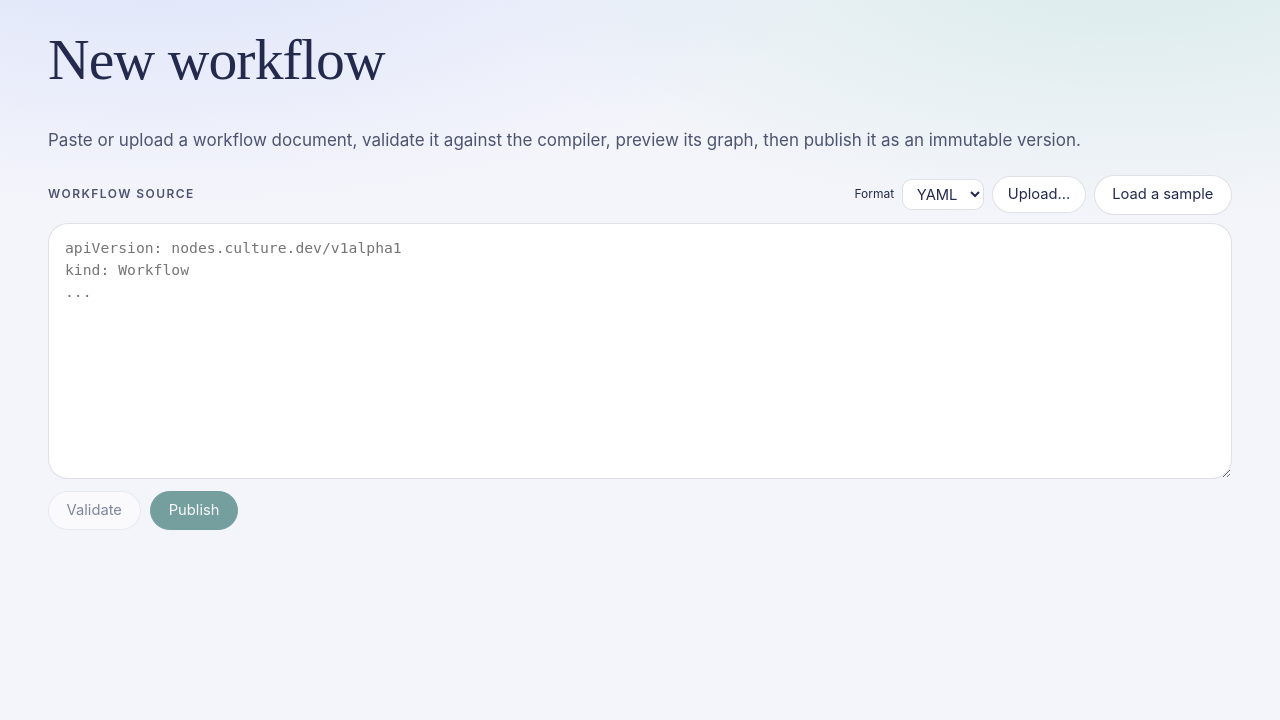
Test: AuthorWorkflow: paste and validate › renders invalid diagnostics verbatim, and never enables Publish for them
Type "apiVersion: nodes.culture.dev/v1alpha1 kind: Workflow metadata:   name: broken spec:   entry: greet   nodes:     greet:       kind: agent   edges:     - from: greet.completed       to: does-not-exist " into the text box labelled "Workflow source" at point(640, 351), box [48,223,1232,479]
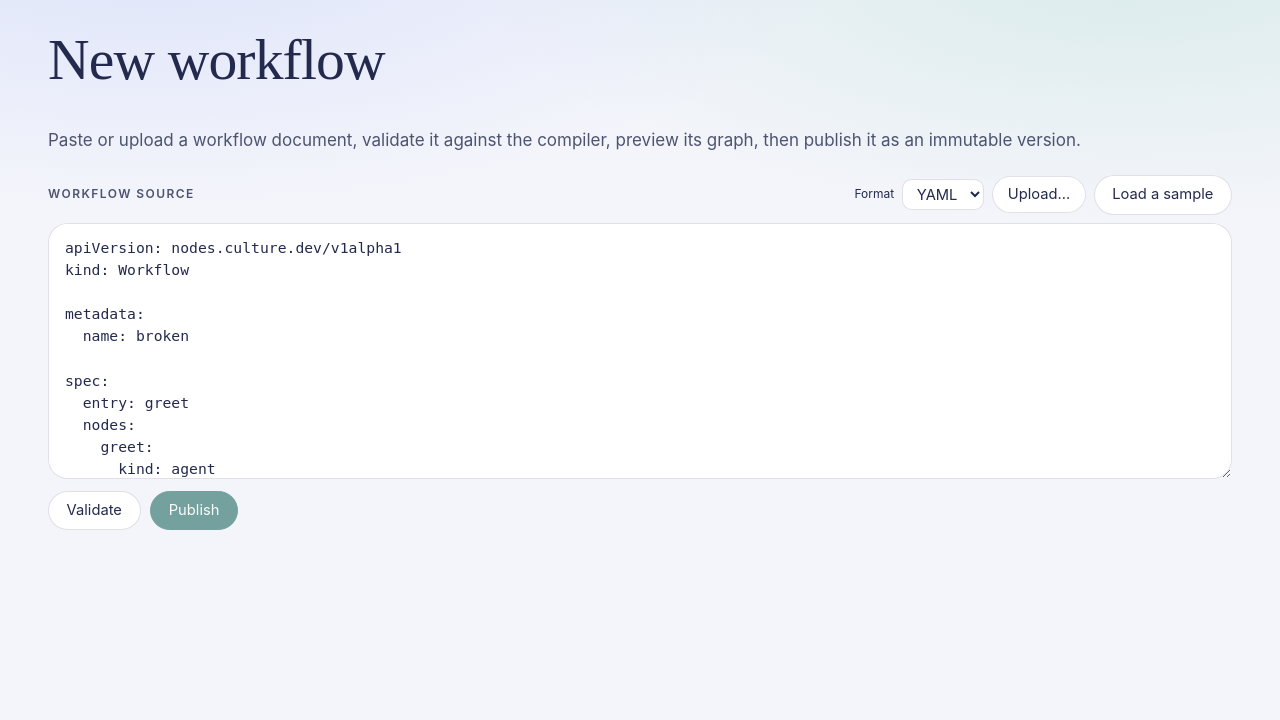
Click the button "Validate" at point(94, 510), box [48,491,140,530]
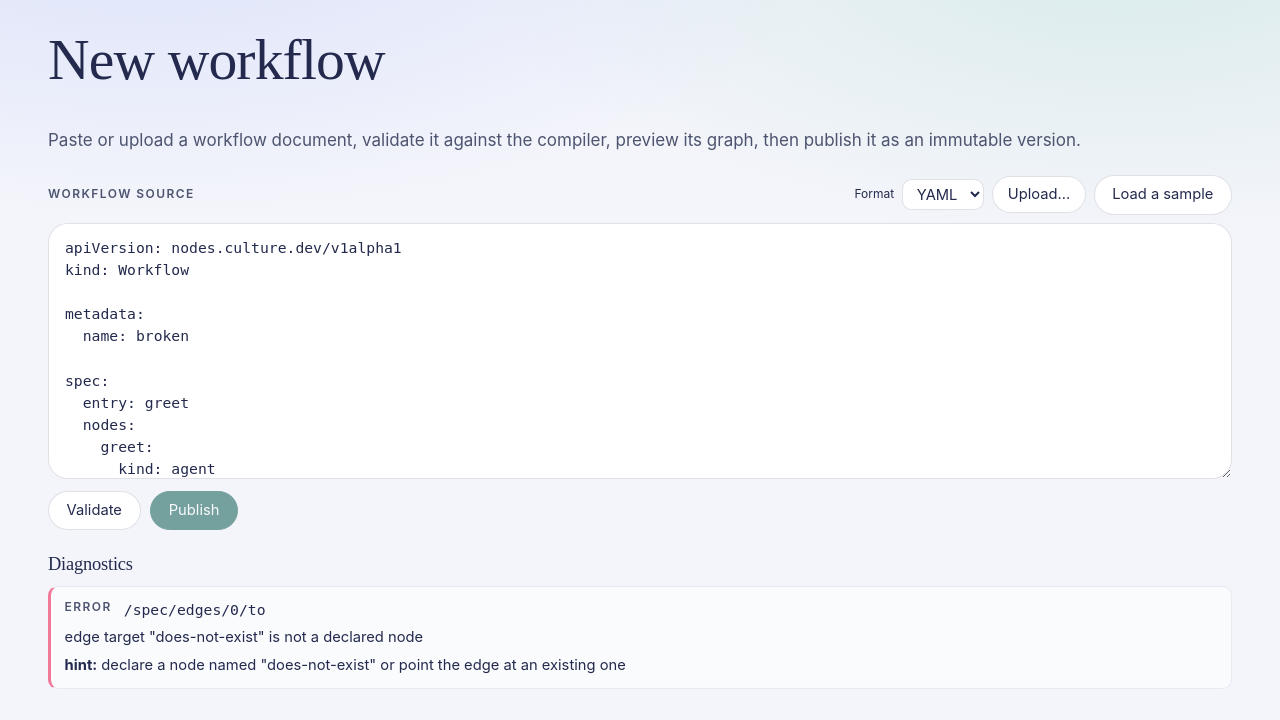
Expected: the text "edge target \"does-not-exist\" is not a declared node" is shown, [65,628,423,646]
Expected: the list item is shown, [48,586,1232,689]
Expected: the text "declare a node named" is shown, [101,656,626,674]
